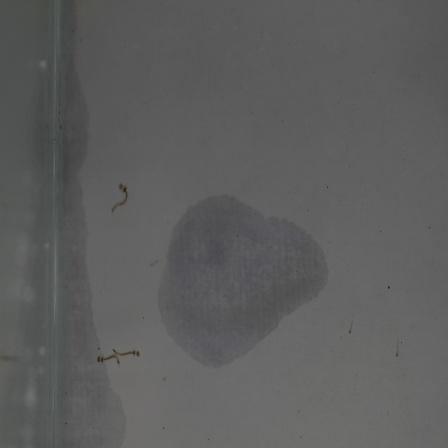Jentik-Nyamuk: (93, 340, 141, 371), (106, 176, 135, 219)
